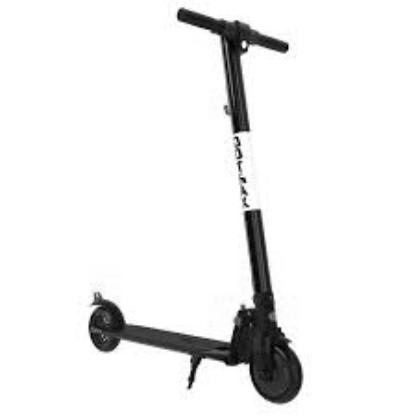bike: (85, 3, 305, 407)
